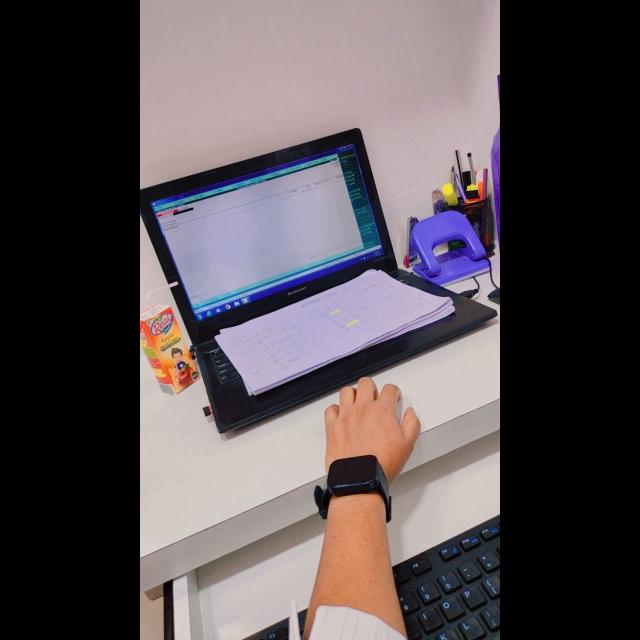laptop: (140, 128, 496, 432)
